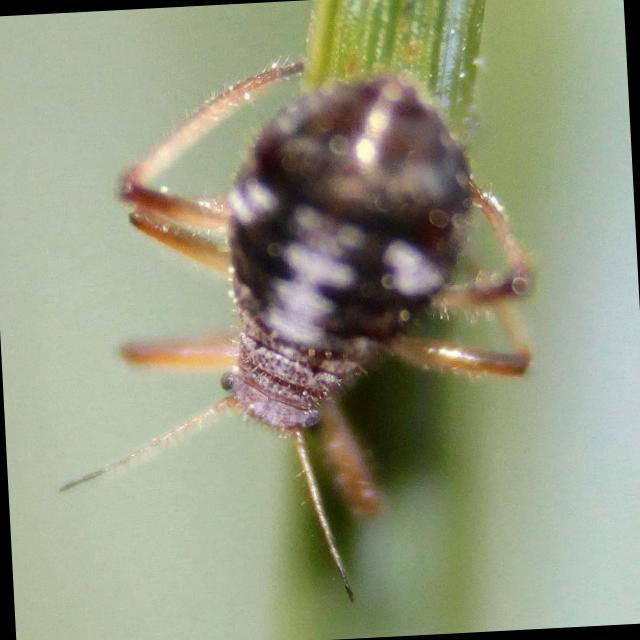Aphids: (41, 49, 556, 579)
